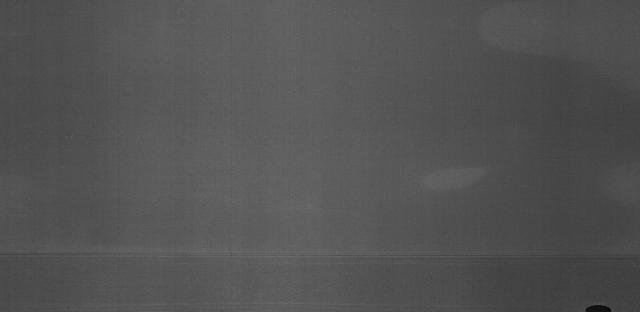punching_hole: (581, 304, 619, 311)
welding_line: (4, 242, 637, 269)
